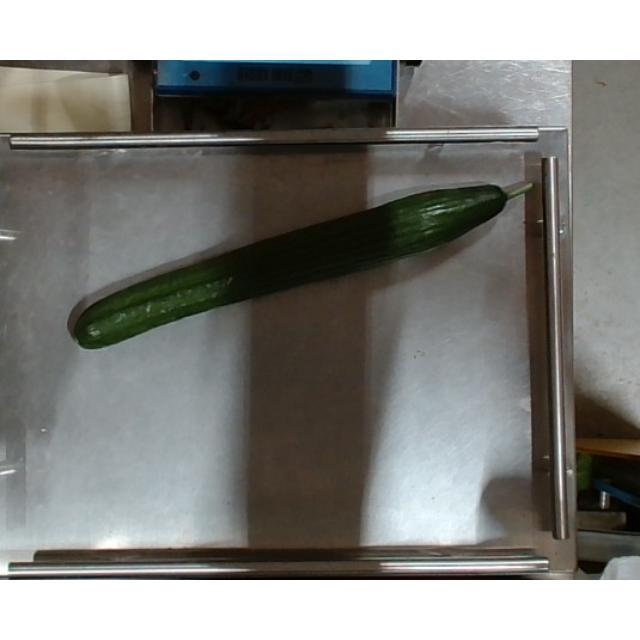cucumber: (74, 182, 536, 348)
